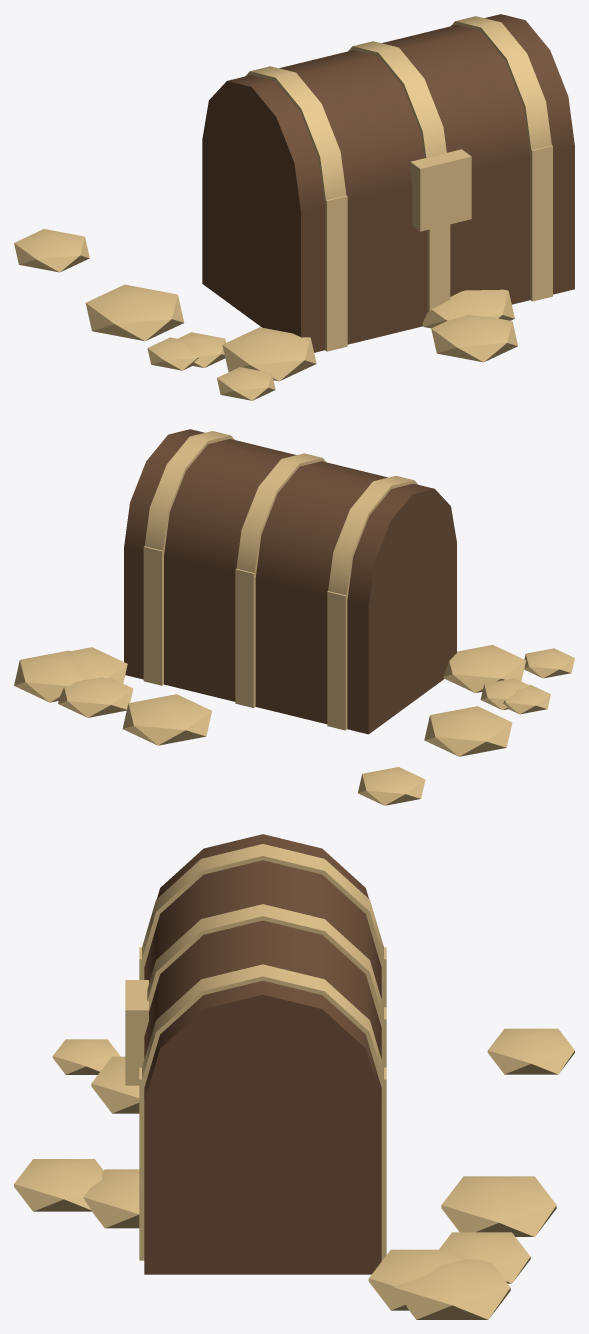
The model's file is TreasureChest.fbx.
3 renders of one model, top to bottom at view 1: azimuth 30°, elevation 25°; view 2: azimuth 150°, elevation 25°; view 3: azimuth 270°, elevation 25°, orthographic. The views are drawn at different scales.
Visible parts, largest first — view 1: TreasureChest; view 2: TreasureChest; view 3: TreasureChest.
Boxes of the visible parts, x1,y1,x2,y2 form: TreasureChest: [14, 14, 574, 400]; TreasureChest: [14, 429, 574, 805]; TreasureChest: [14, 834, 574, 1319].
Size of the model in its own units: 2.88 by 1.37 by 2.36.
